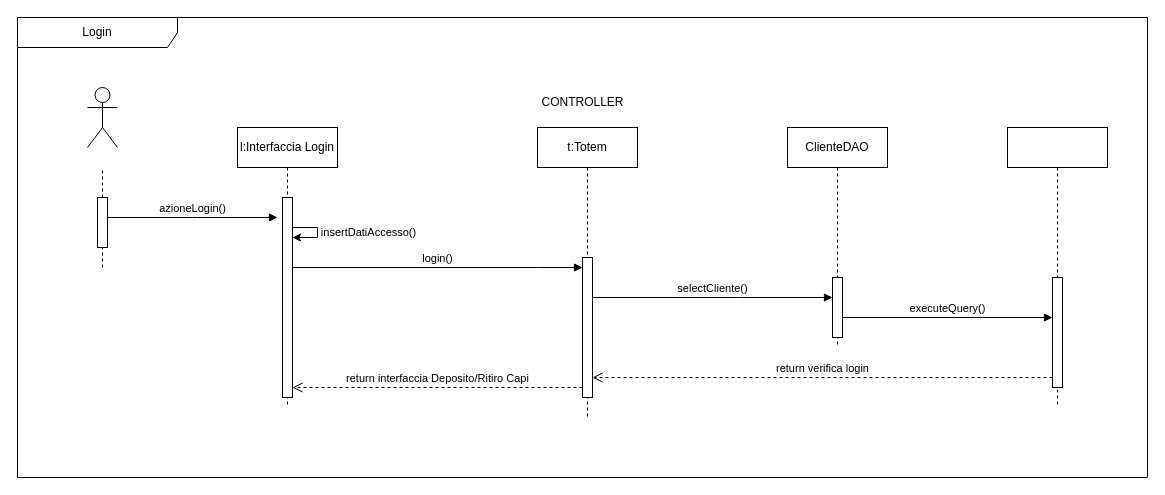
The diagram is 1165 pixels wide and 495 high, and some of its shapes have lost their labels. Here are the shapes that lost their labels. From the top down, the centre of each, then its label:
(x=102, y=117): Cliente
(x=1057, y=267): DB
